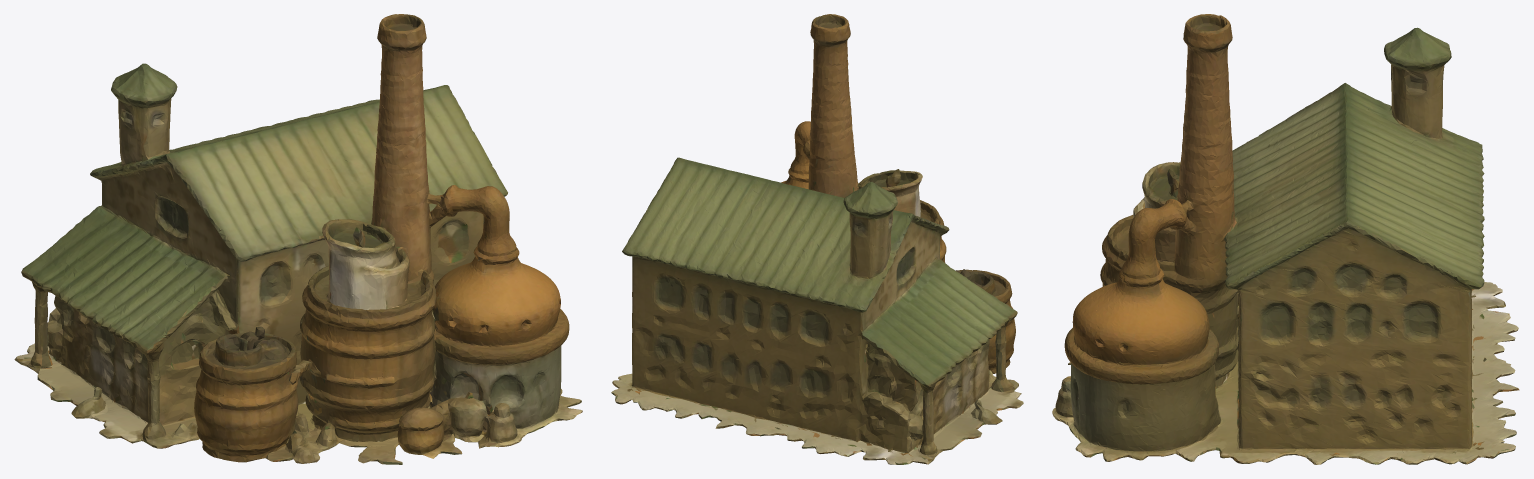
File: wc-brewery-paint.glb
3 views of the same model, side by side, from view 1: azimuth 30°, elevation 25°; view 2: azimuth 150°, elevation 25°; view 3: azimuth 270°, elevation 25° (orthographic). The views are drawn at different scales.
Parts seen in each view (by area): view 1: geometry_0; view 2: geometry_0; view 3: geometry_0.
Boxes of the visible parts, <box> form: geometry_0: <box>14,14,582,464</box>; geometry_0: <box>611,14,1023,464</box>; geometry_0: <box>1052,14,1519,464</box>.
Bounding box in the file's own units: 1.99 × 1.79 × 1.99.
Materials: 1 (1 with a texture image).
